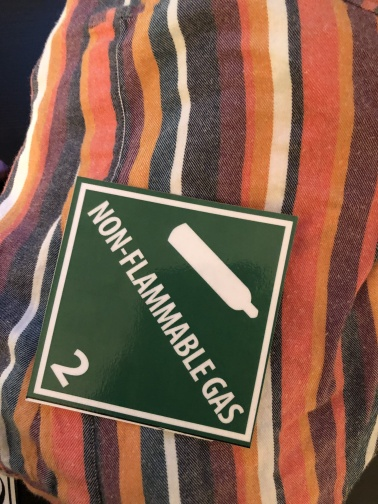NonFlammableGas: (26, 176, 299, 448)
